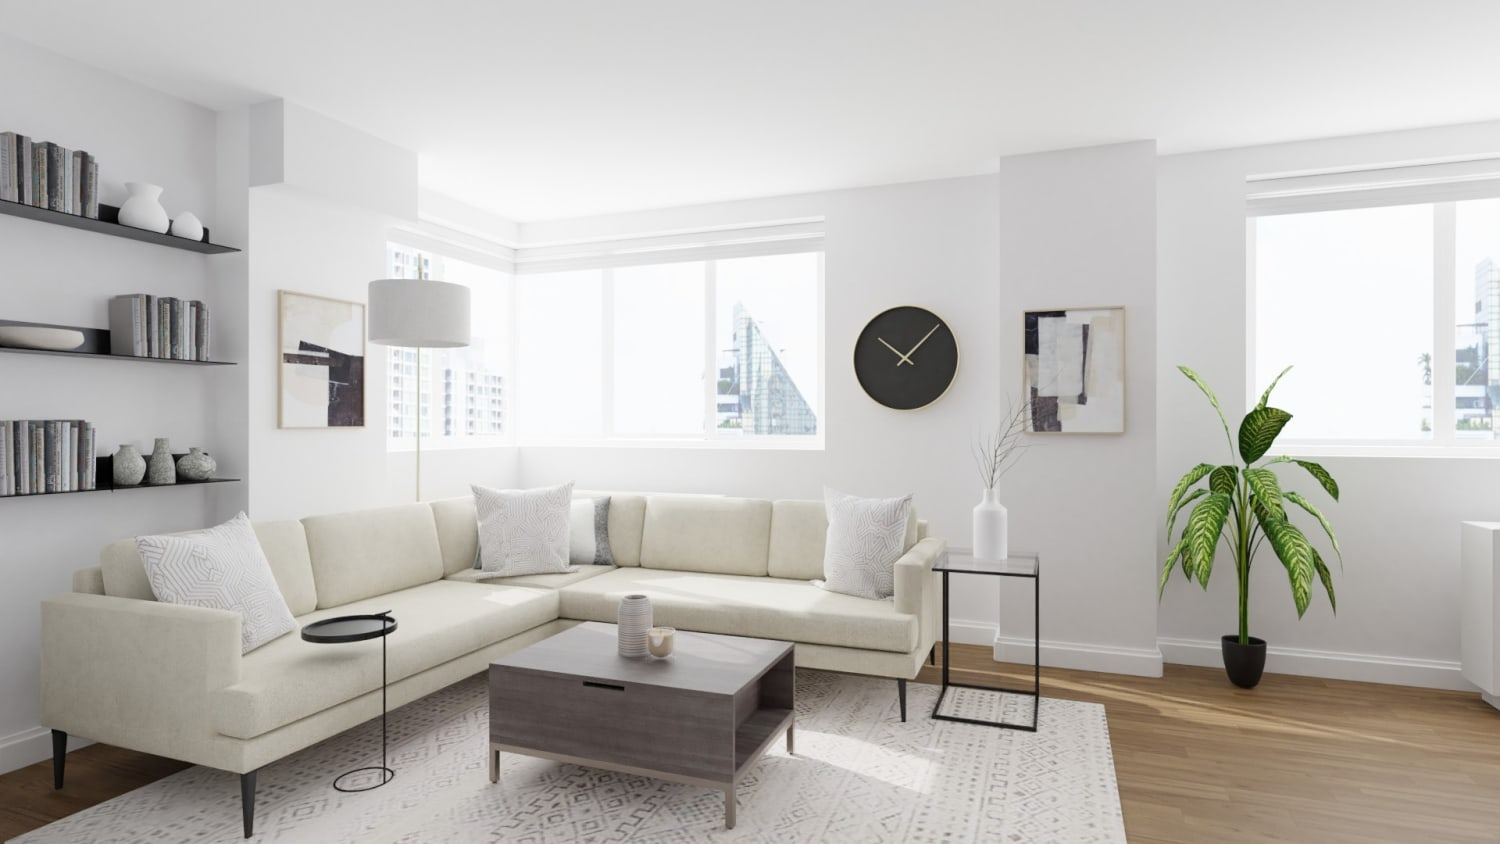floor lamp: (370, 257, 474, 496)
large plant: (1156, 355, 1351, 691)
side table: (936, 561, 1044, 732), (302, 609, 398, 794)
sofa: (38, 480, 957, 838)
table: (483, 616, 799, 833)
wall art: (1020, 301, 1132, 436), (271, 286, 373, 433)
